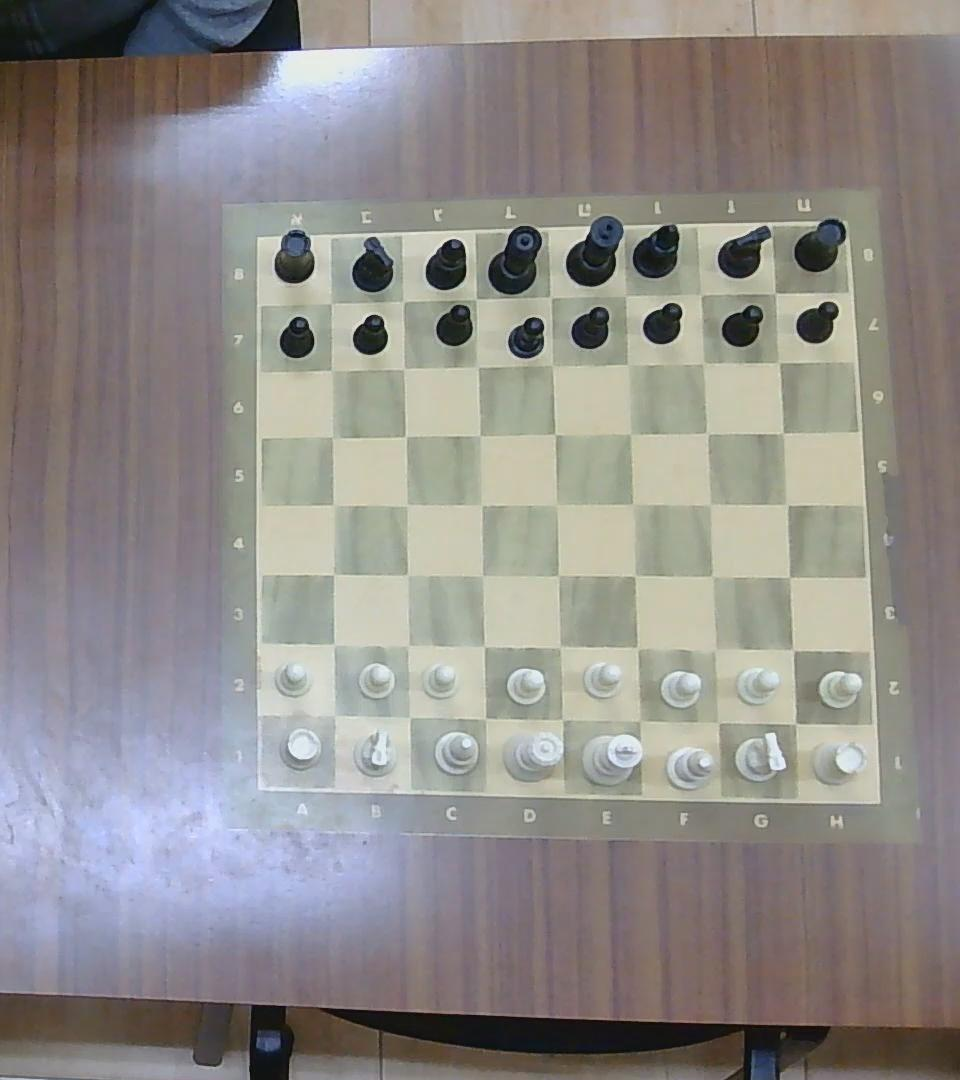xcorner: (777, 705, 811, 739), (619, 631, 653, 664), (622, 702, 656, 735), (701, 705, 734, 738), (543, 629, 575, 663), (697, 633, 731, 665), (468, 701, 501, 733), (545, 702, 578, 734), (393, 699, 424, 731), (318, 698, 350, 729), (392, 630, 423, 661), (468, 630, 499, 661), (697, 561, 728, 592), (619, 560, 650, 590), (774, 561, 804, 592), (776, 634, 807, 664), (318, 629, 349, 659), (543, 560, 573, 590), (466, 560, 496, 590), (393, 560, 422, 590), (319, 558, 348, 588), (618, 488, 648, 517), (542, 488, 571, 517), (460, 284, 489, 313), (772, 488, 801, 517), (535, 284, 565, 312), (318, 488, 346, 517), (467, 490, 495, 518), (316, 288, 345, 315), (615, 420, 644, 447), (464, 351, 491, 380), (393, 489, 421, 516), (695, 489, 723, 516), (317, 420, 345, 447), (611, 281, 639, 308), (538, 350, 566, 377), (540, 420, 568, 447), (614, 350, 642, 377), (769, 418, 797, 445), (693, 418, 721, 445), (317, 356, 345, 382), (465, 421, 493, 446), (392, 422, 418, 448), (688, 280, 714, 306), (761, 279, 788, 304), (390, 287, 415, 313), (390, 355, 415, 380), (690, 350, 715, 375), (766, 350, 791, 374)
